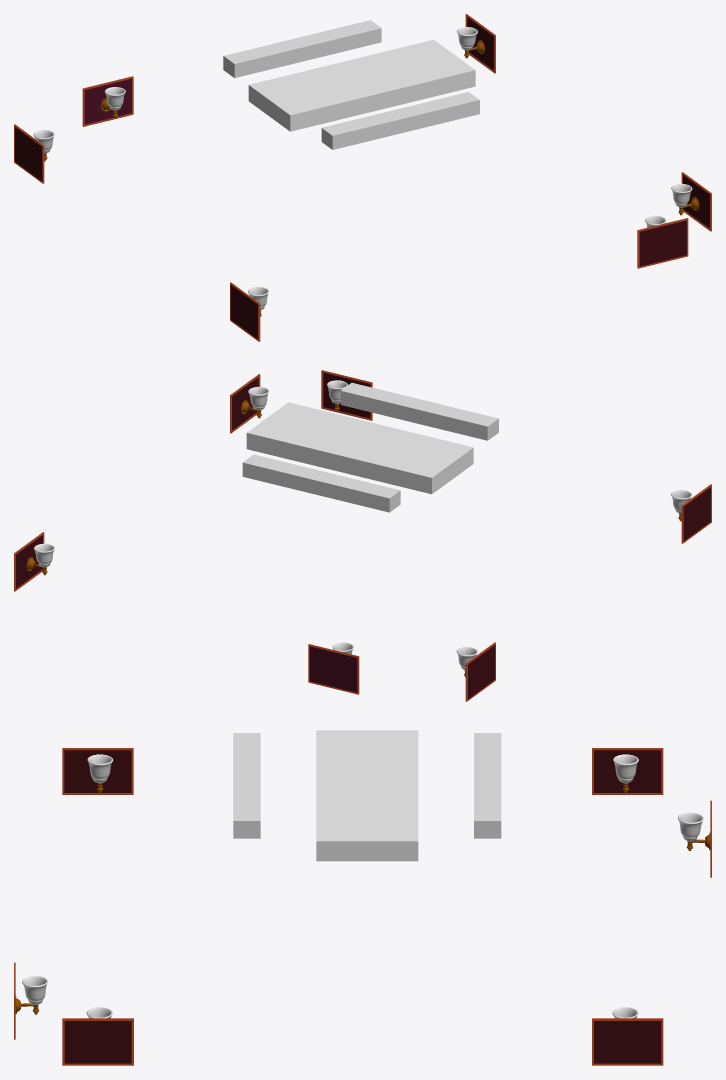
Rendered from Luzes.fbx.
3 renders of one model, top to bottom at view 1: azimuth 30°, elevation 25°; view 2: azimuth 150°, elevation 25°; view 3: azimuth 270°, elevation 25°, orthographic. The views are drawn at different scales.
Visible parts, largest first — view 1: LuzTeto1, miniquadro5.003, miniquadro5.004, miniquadro5.002, miniquadro5.001, miniquadro5.006, miniquadro5.005, lamp11.003, lamp11.002; view 2: LuzTeto1, miniquadro5.004, miniquadro5.002, miniquadro5.001, miniquadro5.003, miniquadro5.005, miniquadro5.006, lamp11.002, lamp11.003; view 3: LuzTeto1, miniquadro5.005, miniquadro5.006, miniquadro5.002, miniquadro5.001, lamp11.014, lamp11.001, lamp11.013, lamp11.012.
Part boxes in pixels (x1,y1,x2,y2): LuzTeto1: [223, 20, 479, 149]; miniquadro5.003: [637, 218, 688, 268]; miniquadro5.004: [82, 76, 133, 126]; miniquadro5.002: [230, 282, 260, 341]; miniquadro5.001: [14, 124, 44, 183]; miniquadro5.006: [681, 172, 711, 231]; miniquadro5.005: [465, 14, 495, 73]; lamp11.003: [671, 183, 699, 215]; lamp11.002: [457, 27, 484, 58]; LuzTeto1: [242, 382, 498, 512]; miniquadro5.004: [308, 644, 359, 694]; miniquadro5.002: [681, 484, 711, 543]; miniquadro5.001: [465, 642, 495, 701]; miniquadro5.003: [321, 370, 372, 420]; miniquadro5.005: [14, 532, 44, 591]; miniquadro5.006: [230, 374, 260, 433]; lamp11.002: [26, 543, 54, 575]; lamp11.003: [241, 386, 269, 418]; LuzTeto1: [233, 730, 501, 861]; miniquadro5.005: [592, 1018, 663, 1065]; miniquadro5.006: [62, 1018, 133, 1065]; miniquadro5.002: [62, 748, 133, 794]; miniquadro5.001: [592, 748, 663, 794]; lamp11.014: [15, 976, 47, 1014]; lamp11.001: [678, 812, 710, 850]; lamp11.013: [87, 754, 113, 792]; lamp11.012: [613, 754, 638, 792].
Bounding box in the file's own units: 449 × 114 × 489.
